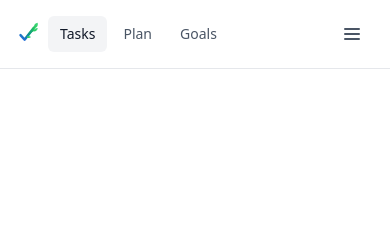
Scenario: AppHeader — US2: compact menu trigger › opening the menu reveals Account link
What coordinates should you click on to do the following:
click the button named "menu"
I would click on:
 (352, 34)
Its box is 330,12 -> 374,56.
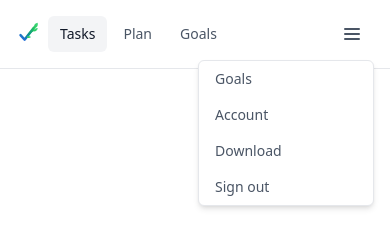
Now the link "Account" is shown, box 215,105 -> 268,124
